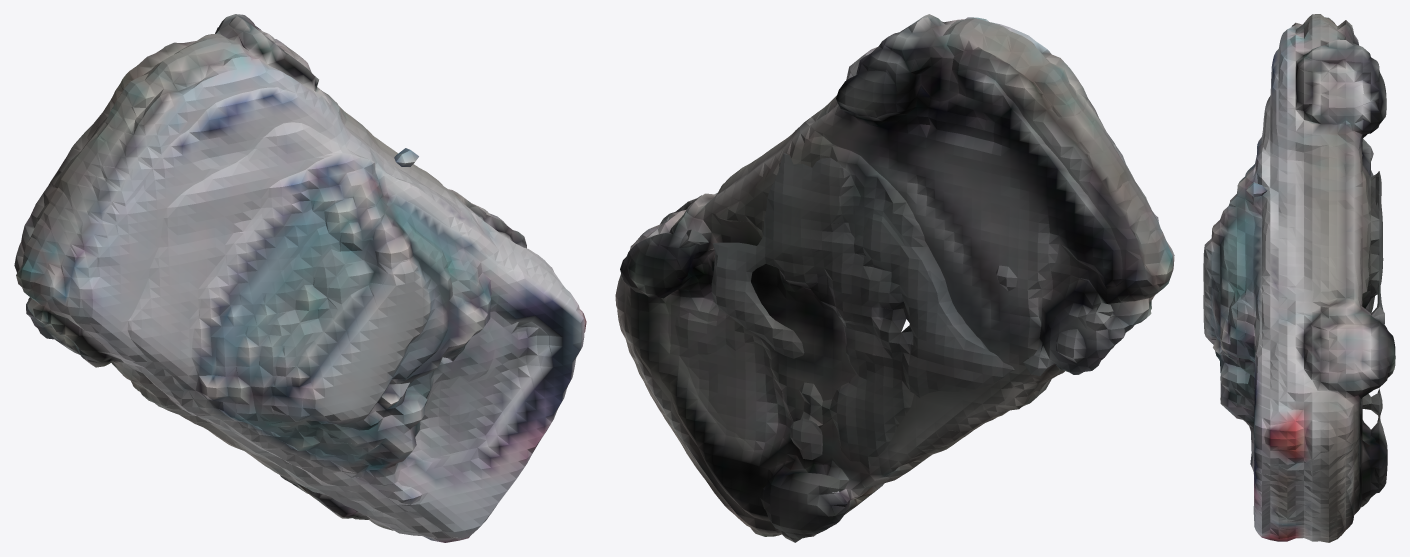
Rendered from 000007_car_mercedes_car wallpapers_10240_128.glb.
3 views of the same model, side by side, from view 1: azimuth 30°, elevation 25°; view 2: azimuth 150°, elevation 25°; view 3: azimuth 270°, elevation 25° (orthographic). The views are drawn at different scales.
Visible parts, largest first — view 1: world; view 2: world; view 3: world.
Boxes of the visible parts, x1,y1,x2,y2 form: world: (14,14,586,542); world: (615,14,1174,542); world: (1203,14,1395,542).
Size of the model in its own units: 0.8167 by 0.7888 by 0.3139.
